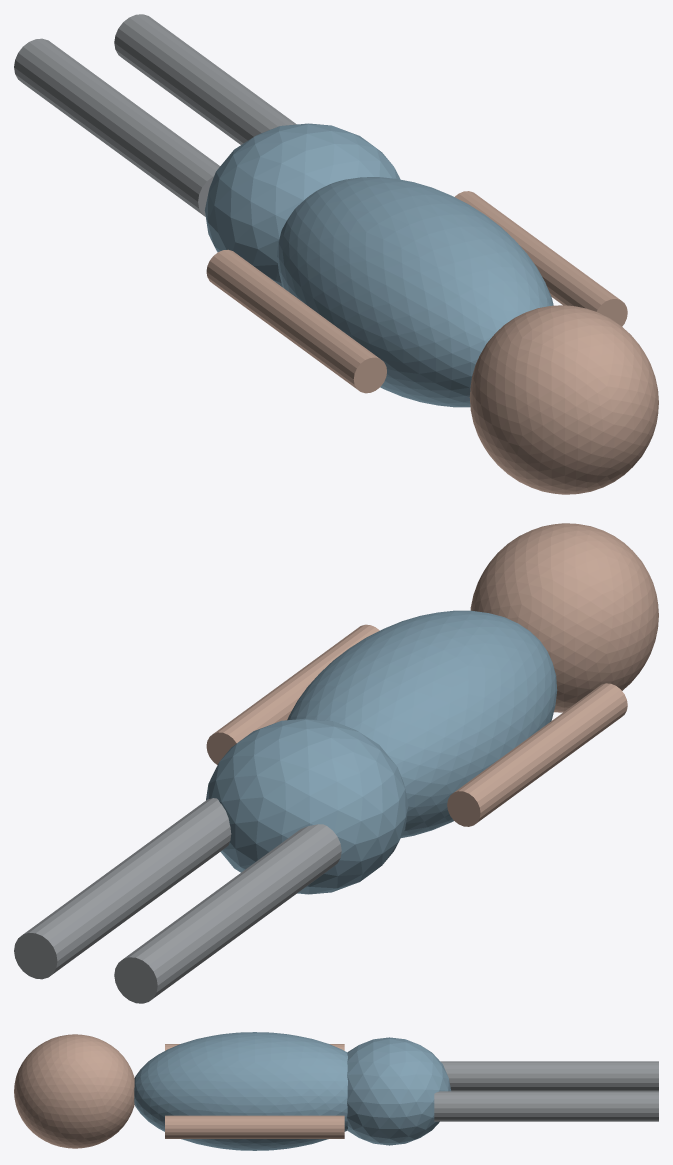
Rendered from adult-high.glb.
3 renders of one model, top to bottom at view 1: azimuth 30°, elevation 25°; view 2: azimuth 150°, elevation 25°; view 3: azimuth 270°, elevation 25°, orthographic. The views are drawn at different scales.
Parts seen in each view (by area): view 1: torso, head, pelvis, left_leg, right_leg, left_arm, right_arm; view 2: torso, pelvis, head, left_leg, right_leg, left_arm, right_arm; view 3: torso, head, pelvis, right_leg, left_leg, right_arm.
Part boxes in pixels (x1,y1,x2,y2): torso: (277, 177, 553, 407); head: (469, 305, 658, 494); pelvis: (204, 123, 400, 286); left_leg: (14, 38, 220, 216); right_leg: (114, 14, 296, 144); left_arm: (206, 249, 386, 393); right_arm: (455, 191, 627, 326); torso: (287, 610, 557, 837); pelvis: (206, 718, 408, 894); head: (470, 523, 658, 712); left_leg: (114, 824, 341, 1003); right_leg: (14, 798, 231, 979); left_arm: (447, 683, 627, 826); right_arm: (206, 624, 379, 764); torso: (134, 1032, 347, 1150); head: (14, 1034, 134, 1148); pelvis: (347, 1037, 450, 1145); right_leg: (434, 1091, 658, 1121); left_leg: (440, 1061, 658, 1091); right_arm: (165, 1115, 344, 1138).
Bounding box in the file's own units: 1.07 × 0.6336 × 3.56.
